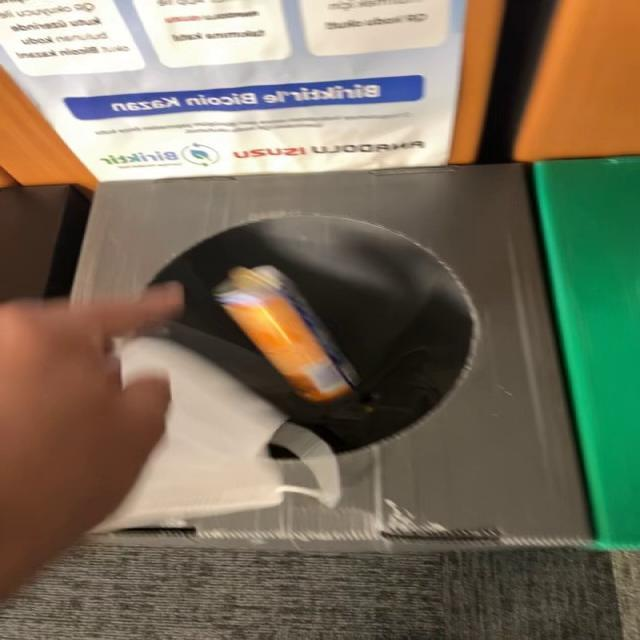Bin: (73, 166, 592, 550)
Metal: (213, 266, 360, 403)
